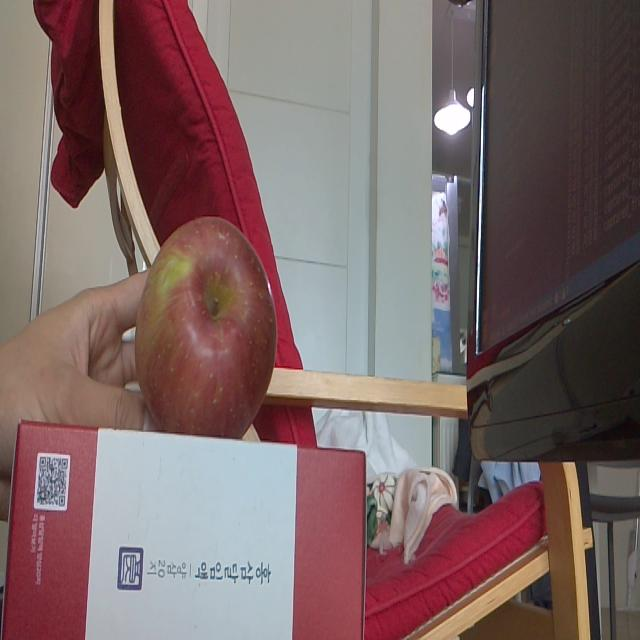apple: (135, 215, 277, 442)
